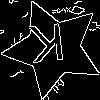K: (28, 23, 68, 72)
